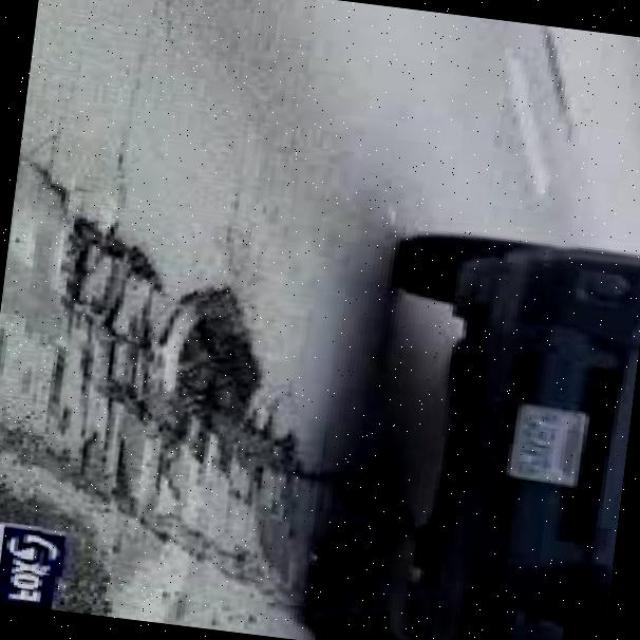pothole: (60, 225, 306, 474)
